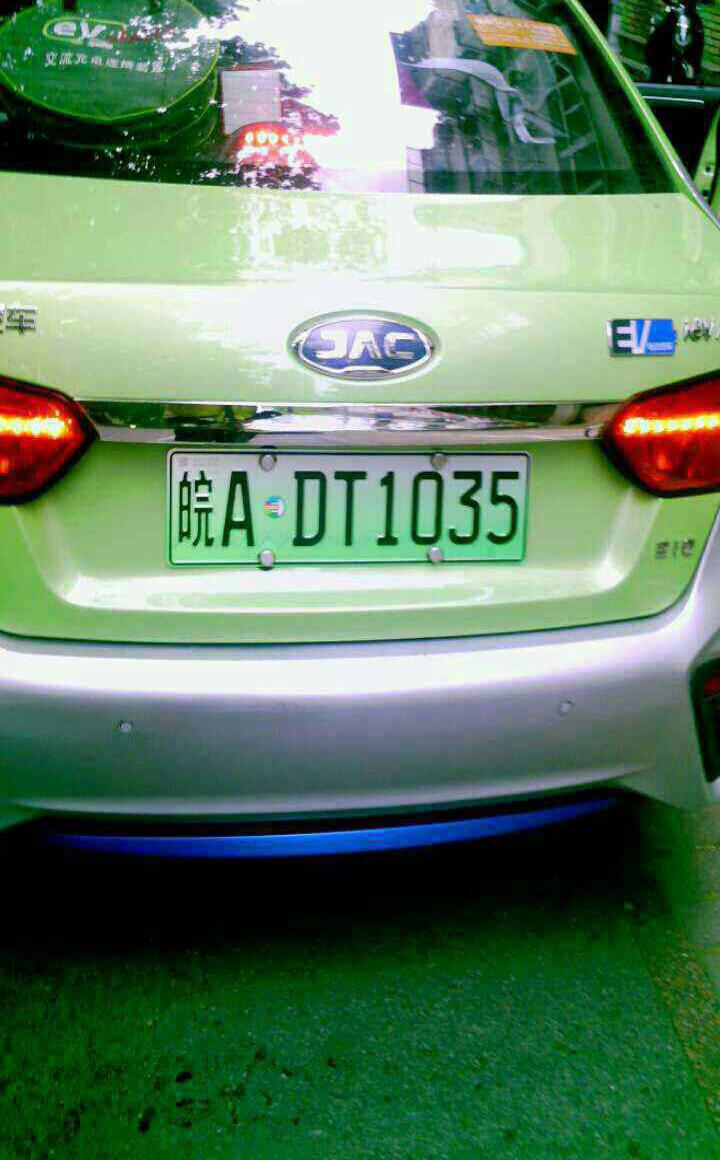car_id: (166, 451, 529, 563)
